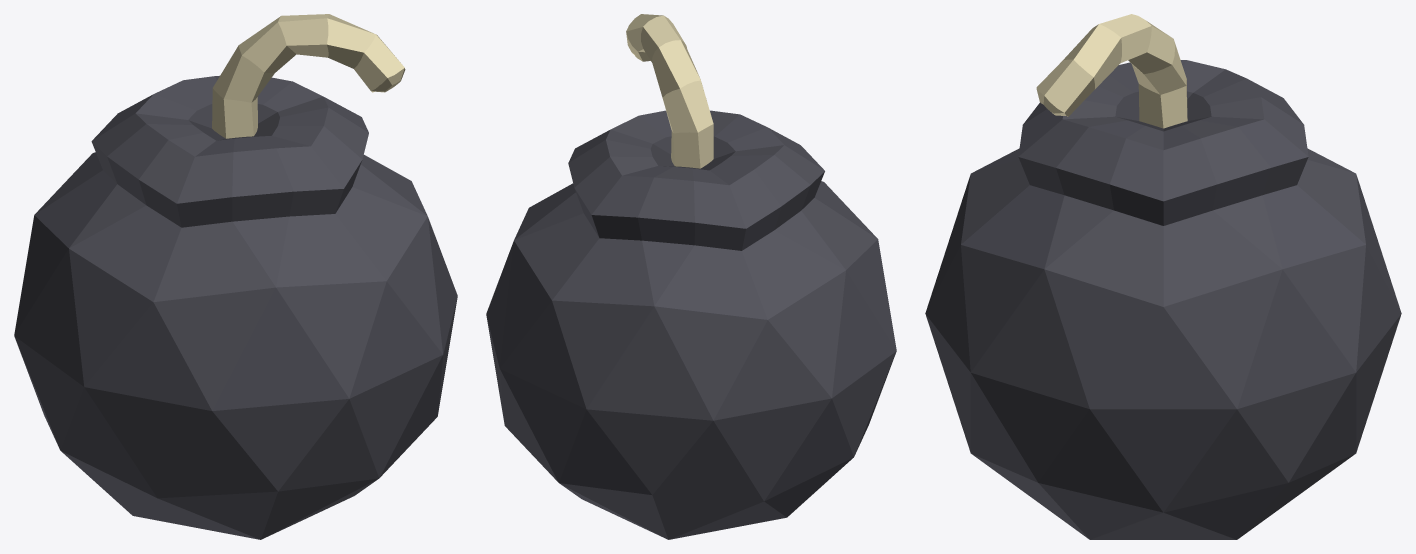
The model's file is bomb.glb.
3 renders of one model, left to right at view 1: azimuth 30°, elevation 25°; view 2: azimuth 150°, elevation 25°; view 3: azimuth 270°, elevation 25°, orthographic. The views are drawn at different scales.
Visible parts, largest first — view 1: Icosphere; view 2: Icosphere; view 3: Icosphere.
Boxes of the visible parts, <box> form: Icosphere: <box>14,14,457,539</box>; Icosphere: <box>486,14,896,539</box>; Icosphere: <box>925,14,1401,539</box>.
Size of the model in its own units: 2.66 by 3.48 by 2.8.
